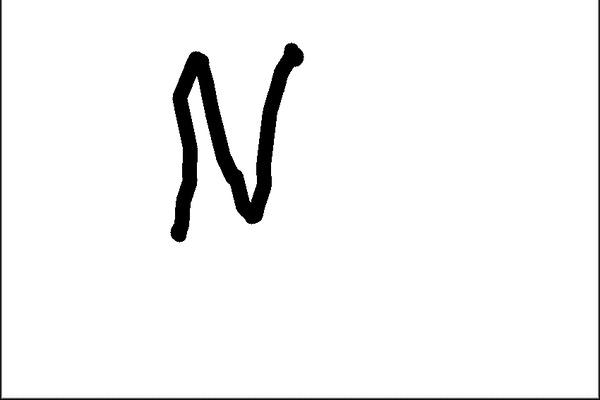N: (163, 36, 308, 244)
